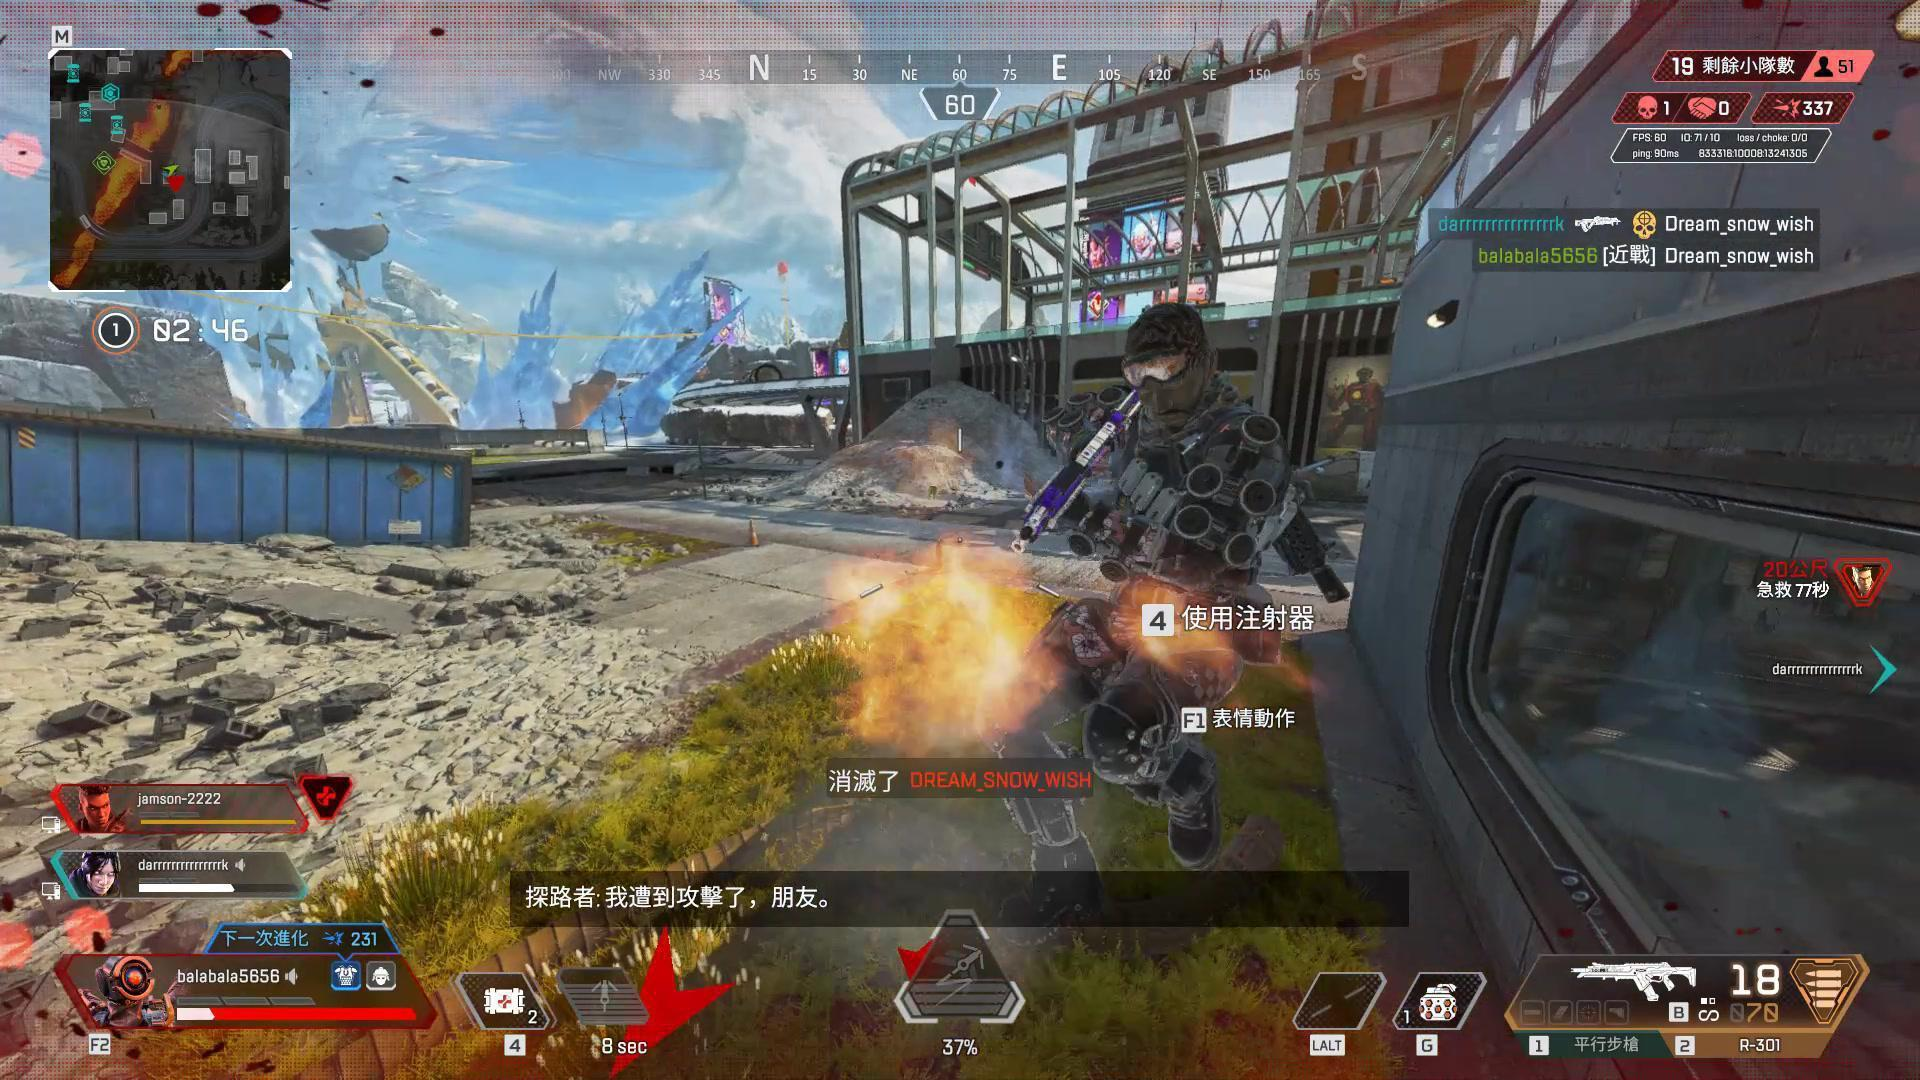avatar: (1016, 299, 1302, 874)
object: (822, 530, 1064, 772)
